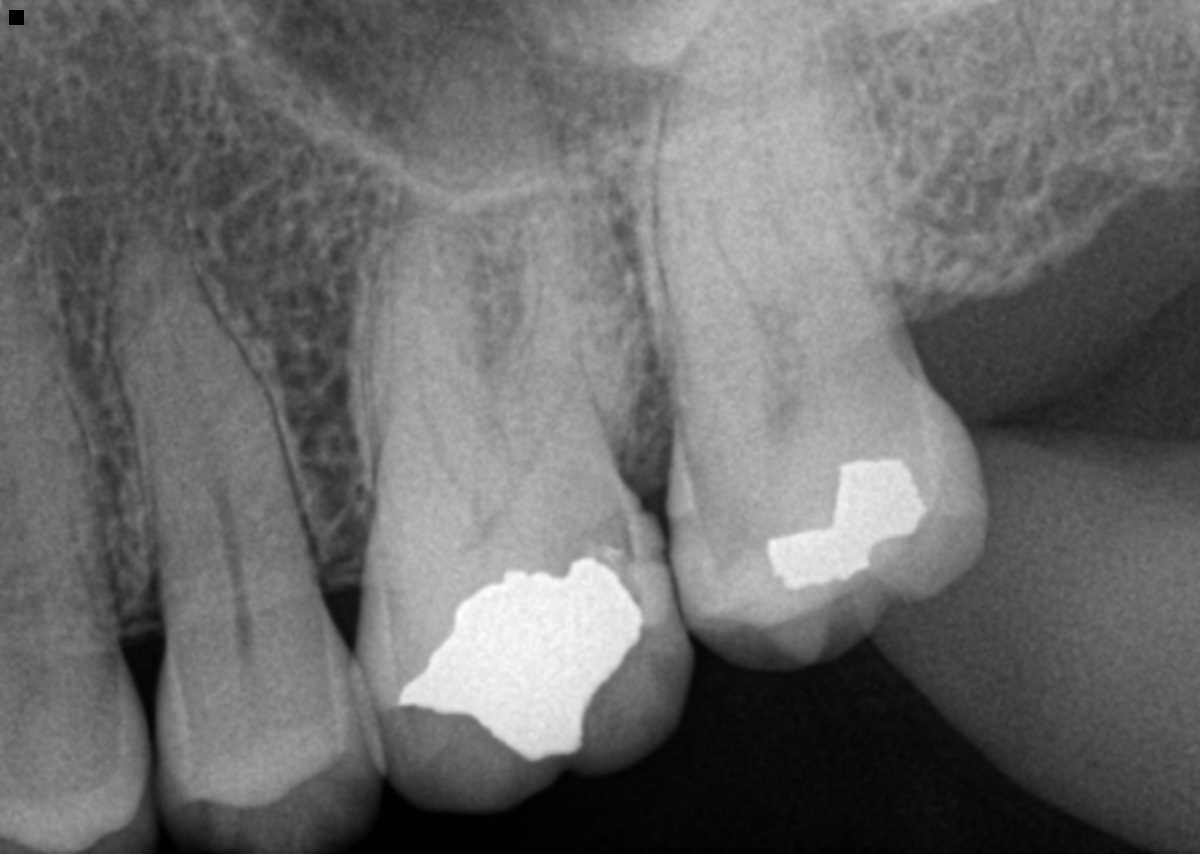Apical Lesion: (539, 154, 638, 260)
Distal Canal: (507, 353, 587, 507)
Distal Root: (498, 184, 649, 431)
Main Canal: (168, 322, 249, 637)
Main Root: (663, 0, 907, 450), (103, 216, 326, 655), (0, 215, 119, 653)
Mesial Canal: (421, 261, 487, 516)
Mesial Root: (365, 223, 504, 532)
Palatal Root: (382, 7, 633, 627)
